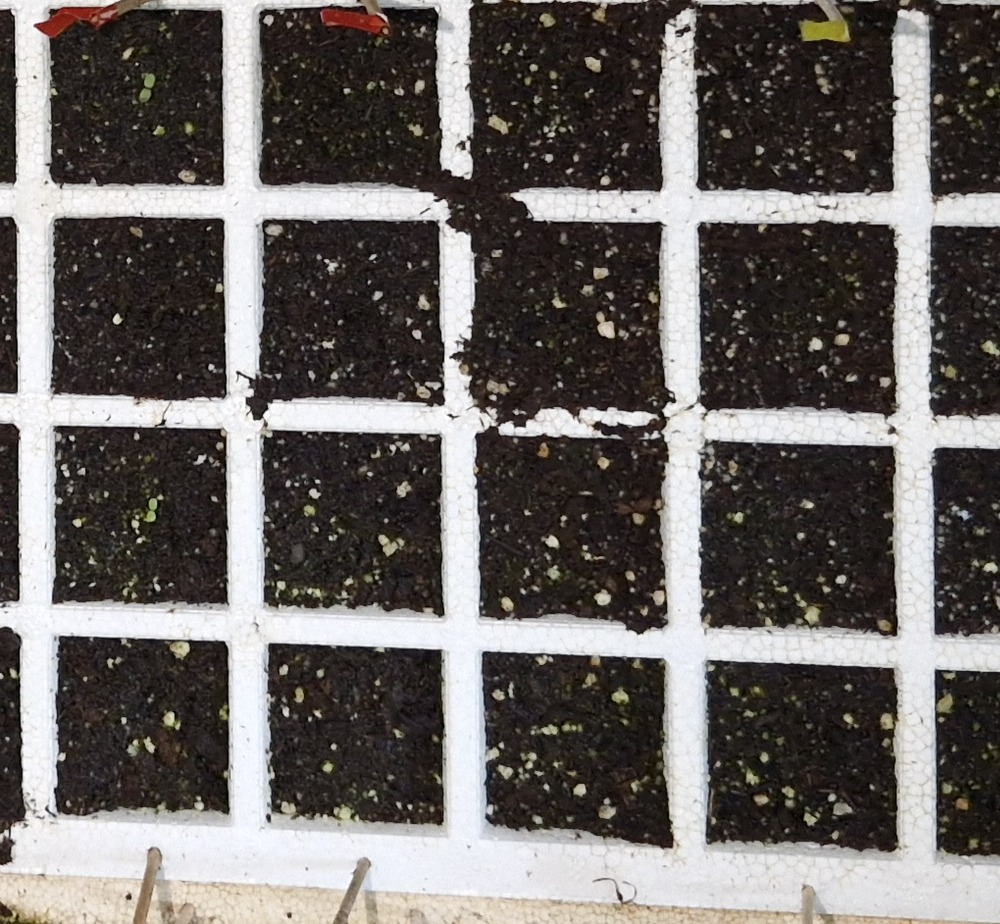Folha: (139, 88, 151, 103), (144, 73, 156, 87), (146, 510, 156, 522), (149, 498, 157, 510)
Germinacao: (139, 73, 156, 103), (146, 497, 157, 522)
